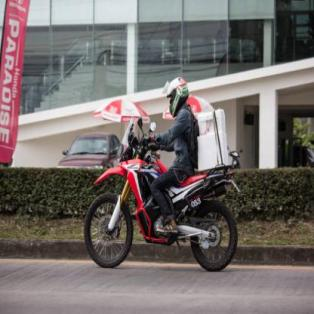Motocicleta: (83, 126, 239, 278)
